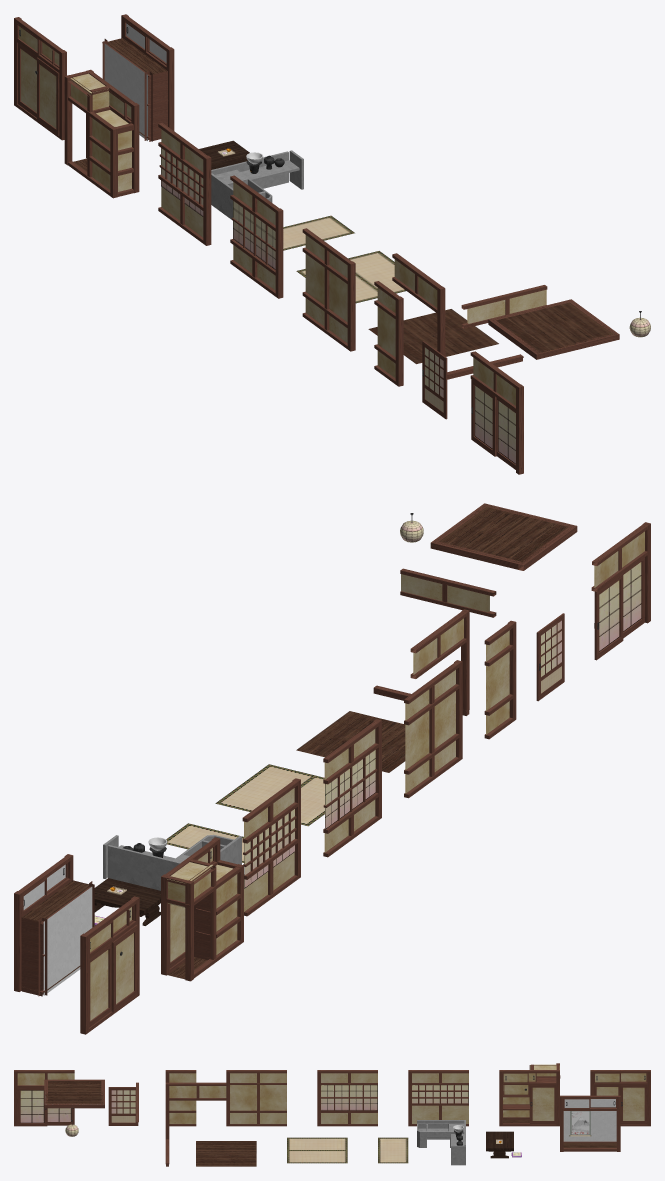
Rendered from Japanese_Machiya_Set_Kit.fbx.
3 views of the same model, one above another, from view 1: azimuth 30°, elevation 25°; view 2: azimuth 150°, elevation 25°; view 3: azimuth 270°, elevation 25° (orthographic). The views are drawn at different scales.
Visible parts, largest first — view 1: SM_wardrobe, SM_displayWall, SM_windowWallHigh, SM_windowWall, SM_wall, SM_wardrobeClosed, SM_ceiling, SM_kitchenBench, SM_floor, SM_wallHalf, SM_doorWall, SM_SeparatorL (+7 smaller); view 2: SM_wardrobe, SM_displayWall, SM_wardrobeClosed, SM_wall, SM_windowWall, SM_windowWallHigh, SM_ceiling, SM_kitchenBench, SM_wallHalf, SM_tatami, SM_floor, SM_SeparatorH (+7 smaller); view 3: SM_wardrobe, SM_wall, SM_windowWall, SM_windowWallHigh, SM_displayWall, SM_wardrobeClosed, SM_ceiling, SM_tatami, SM_floor, SM_SeparatorL, SM_kitchenBench, SM_wallHalf (+7 smaller).
Part boxes in pixels (left/top/right/bottom): SM_wardrobe: left=64, top=69, right=139, bottom=198; SM_displayWall: left=102, top=14, right=174, bottom=141; SM_windowWallHigh: left=158, top=122, right=211, bottom=245; SM_windowWall: left=230, top=175, right=283, bottom=298; SM_wall: left=302, top=228, right=355, bottom=351; SM_wardrobeClosed: left=14, top=17, right=66, bottom=140; SM_ceiling: left=488, top=299, right=619, bottom=359; SM_kitchenBench: left=211, top=150, right=303, bottom=220; SM_floor: left=368, top=309, right=498, bottom=364; SM_wallHalf: left=374, top=281, right=403, bottom=386; SM_doorWall: left=470, top=351, right=523, bottom=474; SM_SeparatorL: left=392, top=253, right=445, bottom=355; SM_wardrobe: left=161, top=837, right=243, bottom=981; SM_displayWall: left=14, top=854, right=94, bottom=996; SM_wardrobeClosed: left=80, top=896, right=139, bottom=1034; SM_wall: left=404, top=660, right=462, bottom=798; SM_windowWall: left=323, top=719, right=381, bottom=857; SM_windowWallHigh: left=242, top=778, right=300, bottom=916; SM_ceiling: left=430, top=503, right=577, bottom=570; SM_kitchenBench: left=103, top=834, right=241, bottom=890; SM_wallHalf: left=484, top=620, right=516, bottom=739; SM_tatami: left=215, top=764, right=324, bottom=826; SM_floor: left=296, top=711, right=405, bottom=772; SM_SeparatorH: left=400, top=568, right=496, bottom=617; SM_wardrobe: left=499, top=1063, right=560, bottom=1126; SM_wall: left=226, top=1070, right=286, bottom=1126; SM_windowWall: left=317, top=1070, right=377, bottom=1126; SM_windowWallHigh: left=408, top=1070, right=468, bottom=1126; SM_displayWall: left=560, top=1095, right=620, bottom=1151; SM_wardrobeClosed: left=590, top=1070, right=650, bottom=1126; SM_ceiling: left=44, top=1079, right=104, bottom=1108; SM_tatami: left=287, top=1137, right=347, bottom=1163; SM_floor: left=196, top=1141, right=256, bottom=1166; SM_SeparatorL: left=165, top=1082, right=226, bottom=1139; SM_kitchenBench: left=417, top=1120, right=465, bottom=1165; SM_wallHalf: left=165, top=1070, right=196, bottom=1126.
Bounding box in the file's own units: 2.38 × 1.12 × 10.5.
